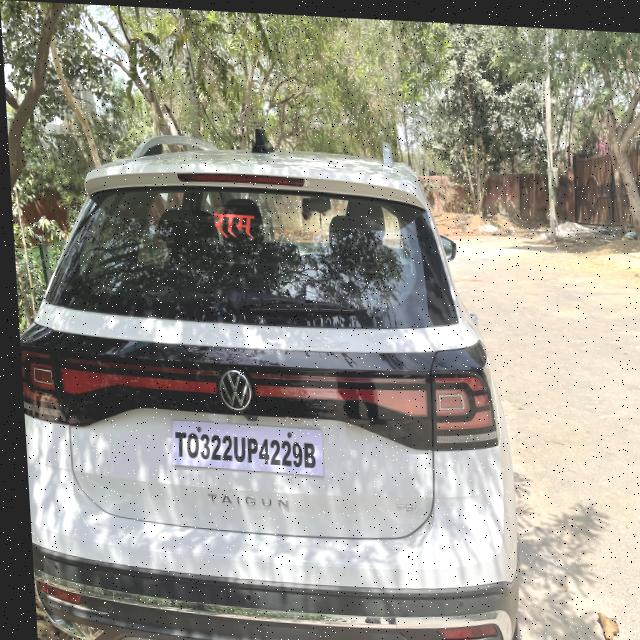plate: (163, 416, 320, 474)
